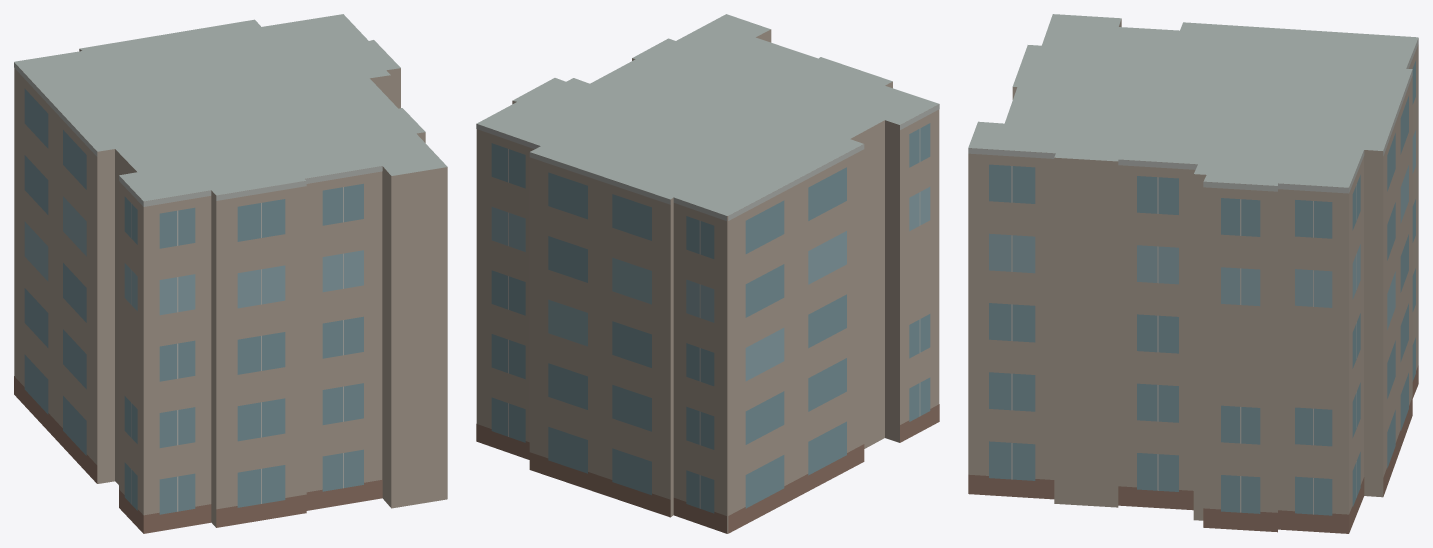
Rendered from survey-upis-32975866.glb.
3 renders of one model, left to right at view 1: azimuth 30°, elevation 25°; view 2: azimuth 150°, elevation 25°; view 3: azimuth 270°, elevation 25°, orthographic. The views are drawn at different scales.
Parts seen in each view (by area): view 1: survey-upis-32975866.tmp; view 2: survey-upis-32975866.tmp; view 3: survey-upis-32975866.tmp.
Part boxes in pixels (x1,y1,x2,y2): survey-upis-32975866.tmp: (14, 14, 447, 533); survey-upis-32975866.tmp: (476, 14, 939, 533); survey-upis-32975866.tmp: (968, 14, 1418, 533).
Bounding box in the file's own units: 15.84 × 14.7 × 17.34.
